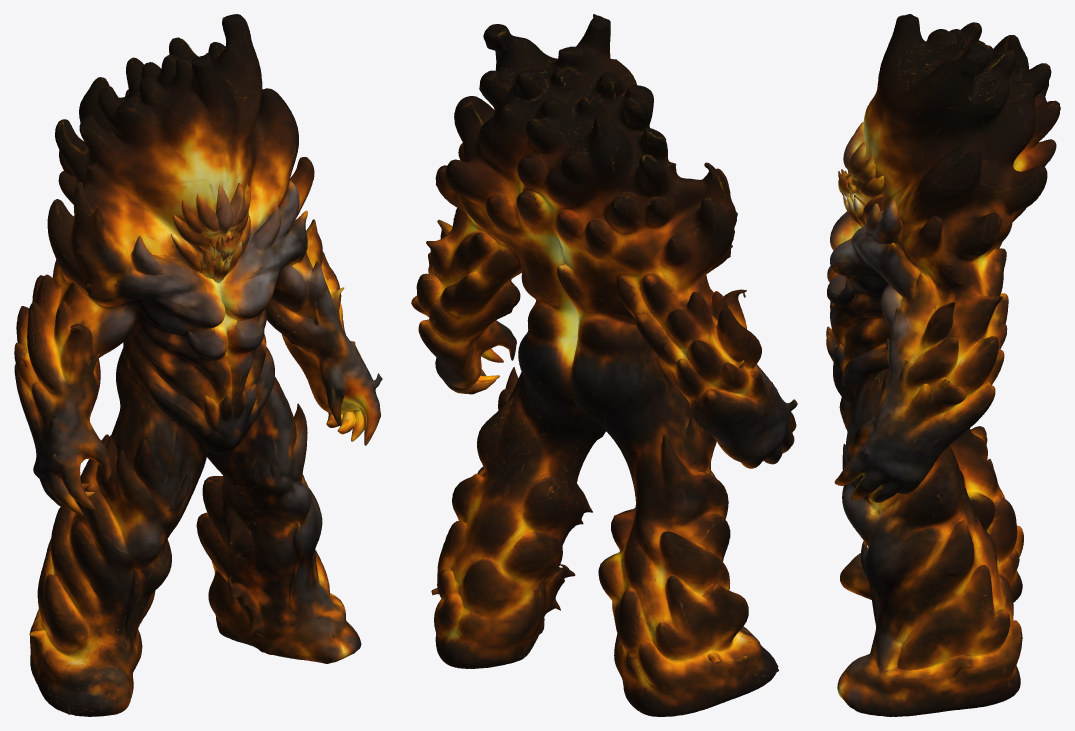
The model's file is fire_elemental.glb.
The picture shows the model from 3 angles, left to right: view 1: azimuth 30°, elevation 25°; view 2: azimuth 150°, elevation 25°; view 3: azimuth 270°, elevation 25°; orthographic projection. The views are drawn at different scales.
Visible parts, largest first — view 1: material; view 2: material; view 3: material.
Boxes of the visible parts, x1=… form: material: x1=14, y1=14, x2=382, y2=716; material: x1=411, y1=14, x2=797, y2=716; material: x1=826, y1=14, x2=1060, y2=716.
Size of the model in its own units: 0.6039 by 1.07 by 0.3569.
Materials: 1 (1 with a texture image).
